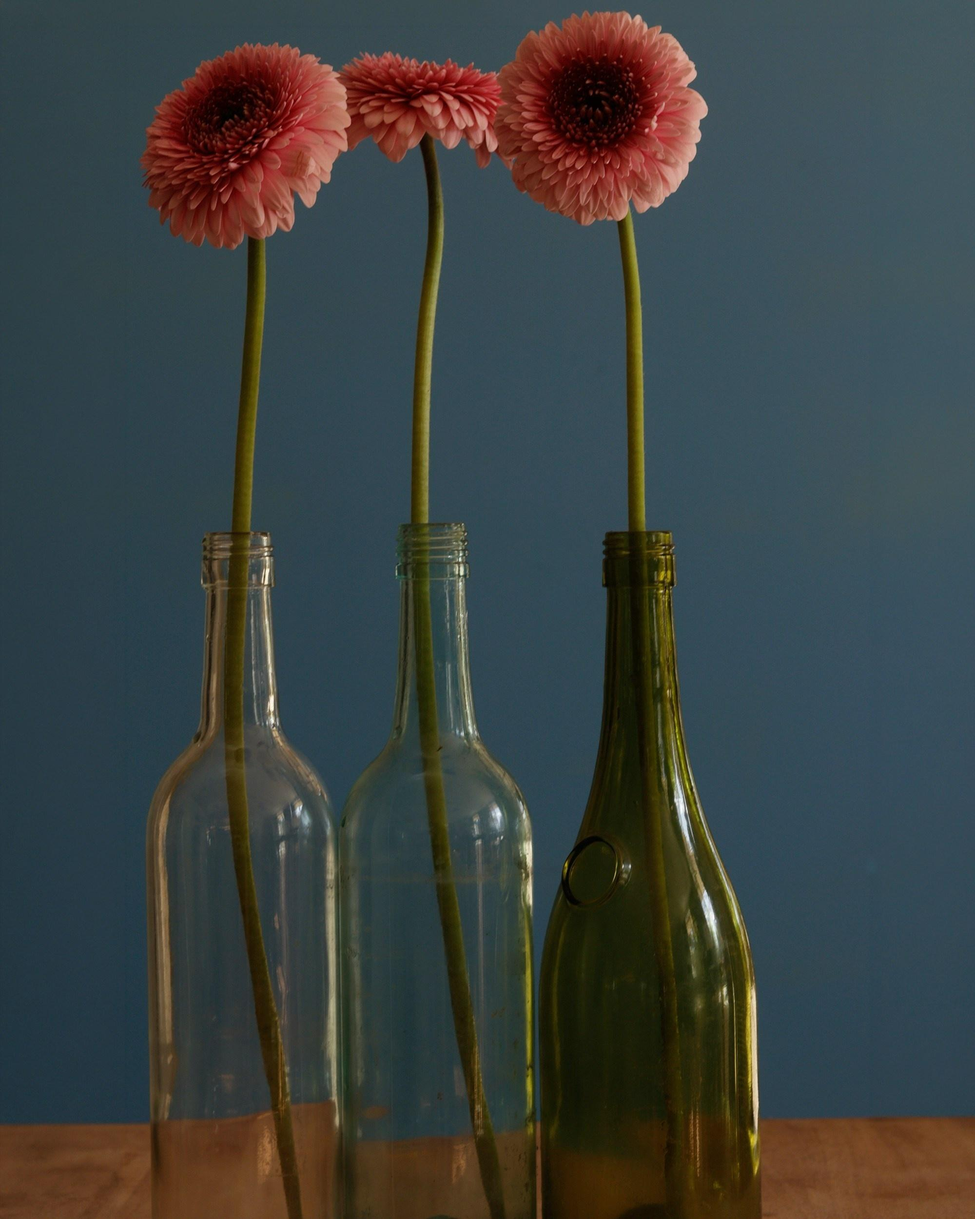Bottle-Detection: (539, 510, 782, 1219), (332, 505, 551, 1217)
botle: (134, 492, 349, 1219)
